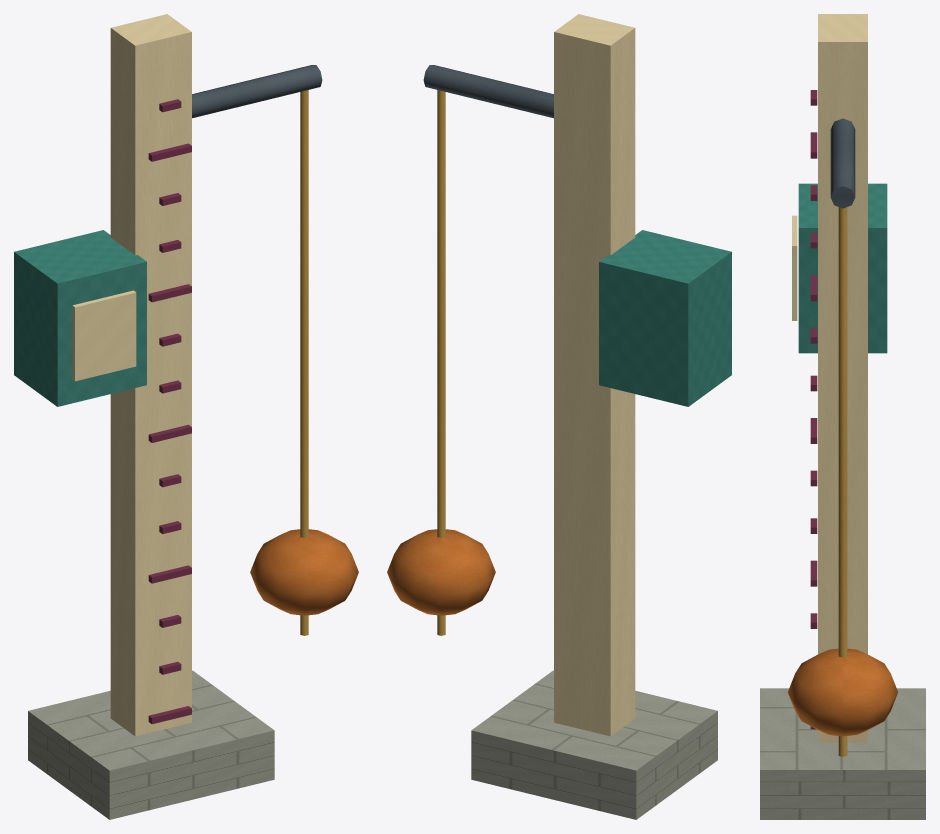
The model's file is river_gauge.glb.
3 views of the same model, side by side, from view 1: azimuth 30°, elevation 25°; view 2: azimuth 150°, elevation 25°; view 3: azimuth 270°, elevation 25° (orthographic).
Visible parts, largest first — view 1: river_gauge; view 2: river_gauge; view 3: river_gauge.
Boxes of the visible parts, x1,y1,x2,y2 form: river_gauge: [14, 14, 358, 819]; river_gauge: [387, 14, 731, 819]; river_gauge: [760, 14, 925, 819].
Bounding box in the file's own units: 1.34 × 3 × 0.6.
7 materials, 7 textured.
